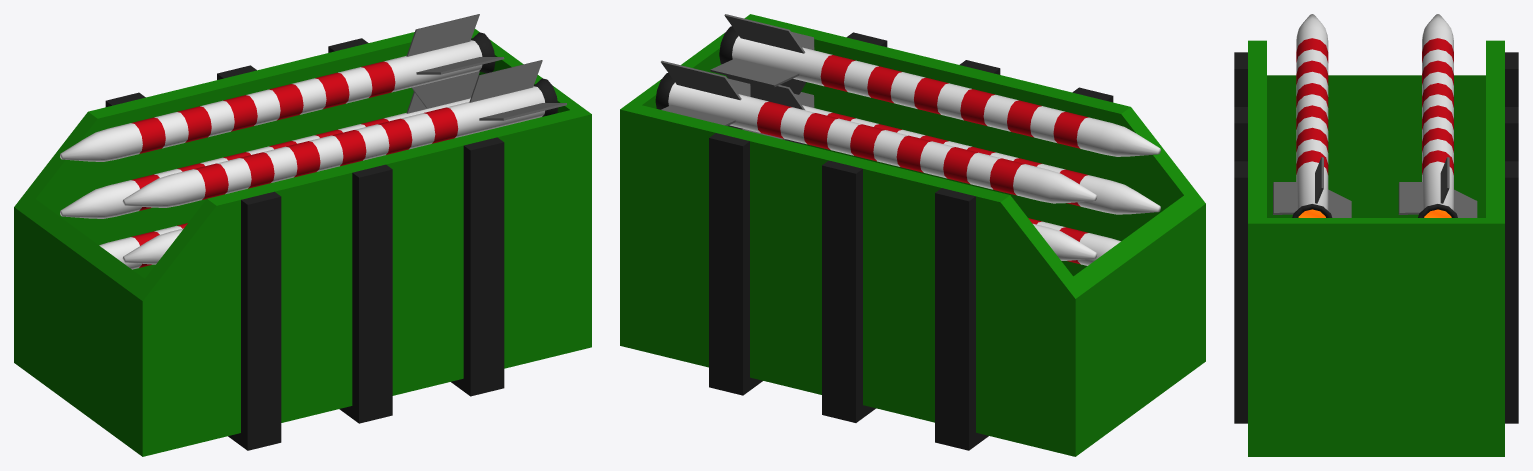
The model's file is ammo.fbx.
The picture shows the model from 3 angles, left to right: view 1: azimuth 30°, elevation 25°; view 2: azimuth 150°, elevation 25°; view 3: azimuth 270°, elevation 25°; orthographic projection.
Visible parts, largest first — view 1: crate; view 2: crate; view 3: crate.
Boxes of the visible parts, x1,y1,x2,y2 form: crate: (14,14,591,456); crate: (620,14,1205,456); crate: (1234,14,1518,456).
Size of the model in its own units: 403 by 237 by 221.
